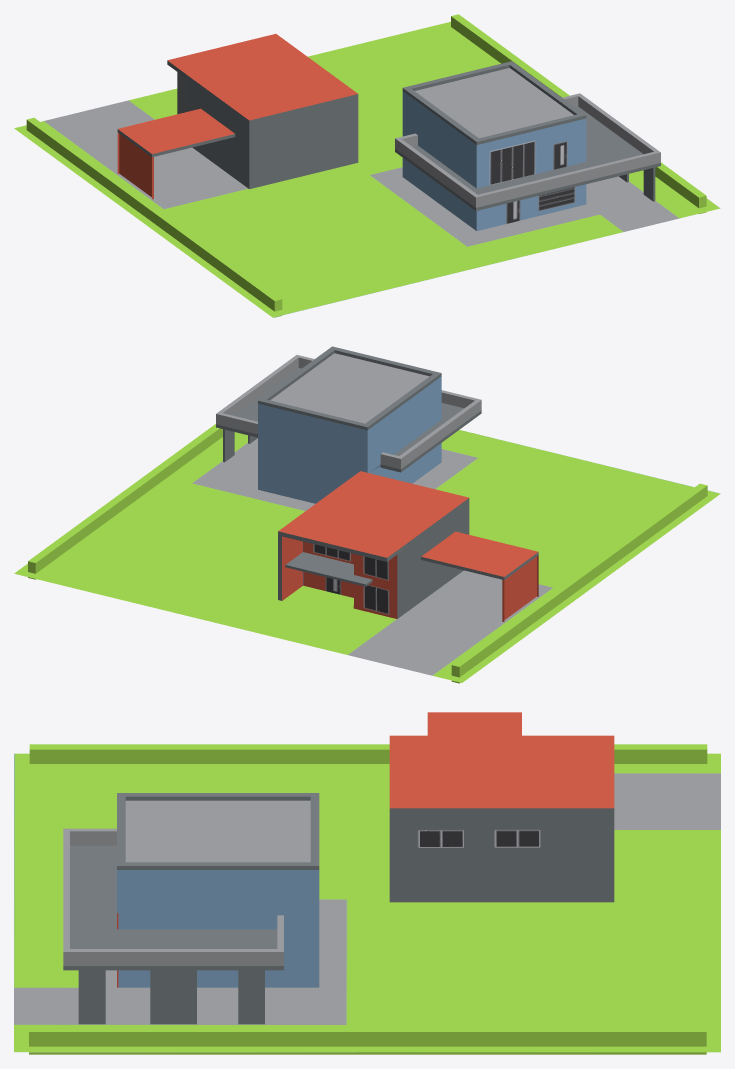
File: 2maisons_5.glb
The picture shows the model from 3 angles, top to bottom: view 1: azimuth 30°, elevation 25°; view 2: azimuth 150°, elevation 25°; view 3: azimuth 270°, elevation 25°; orthographic projection. The views are drawn at different scales.
Visible parts, largest first — view 1: Plan; view 2: Plan; view 3: Plan.
Part boxes in pixels (<box>): Plan: <box>14,14,720,317</box>; Plan: <box>14,346,720,683</box>; Plan: <box>14,712,720,1054</box>.
Bounding box in the file's own units: 15 × 3.26 × 15.
1 material, 1 textured.
